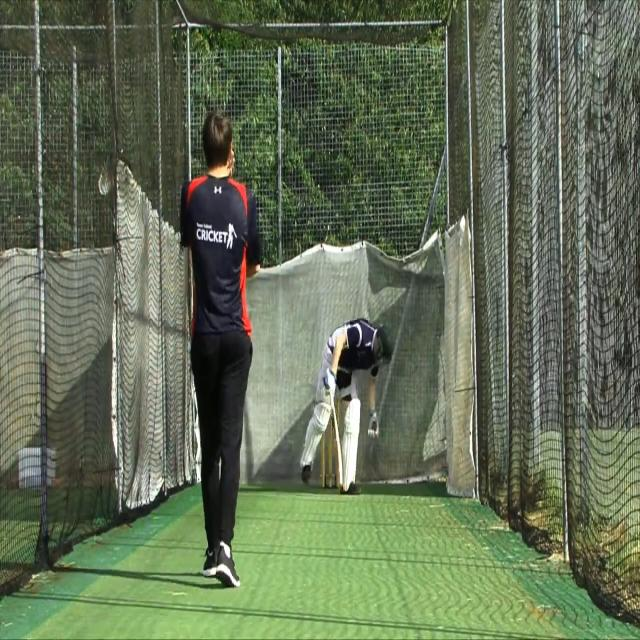batsman: (298, 316, 395, 498)
